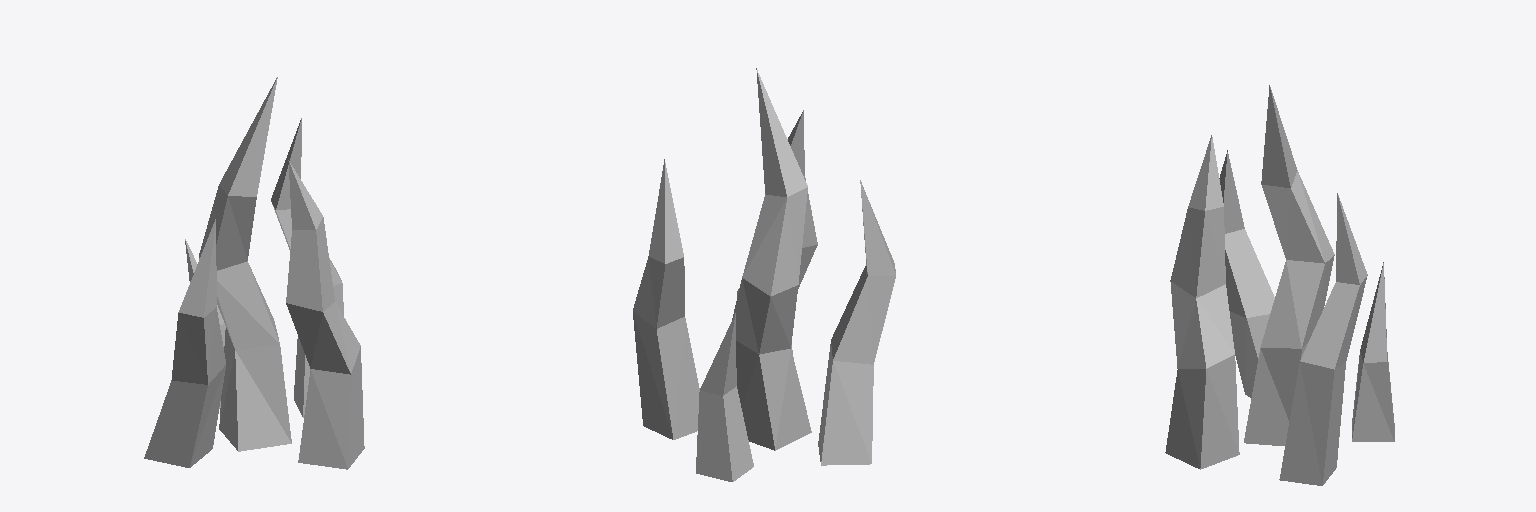
The model's file is Grass.obj.
3 views of the same model, side by side, from view 1: azimuth 30°, elevation 25°; view 2: azimuth 150°, elevation 25°; view 3: azimuth 270°, elevation 25° (orthographic).
Parts seen in each view (by area): view 1: Plane; view 2: Plane; view 3: Plane.
Boxes of the visible parts, box(x1,y1,x2,y2) form: Plane: box(144, 77, 364, 469); Plane: box(633, 68, 895, 481); Plane: box(1165, 85, 1394, 485).
Size of the model in its own units: 0.9327 by 1.49 by 0.8572.